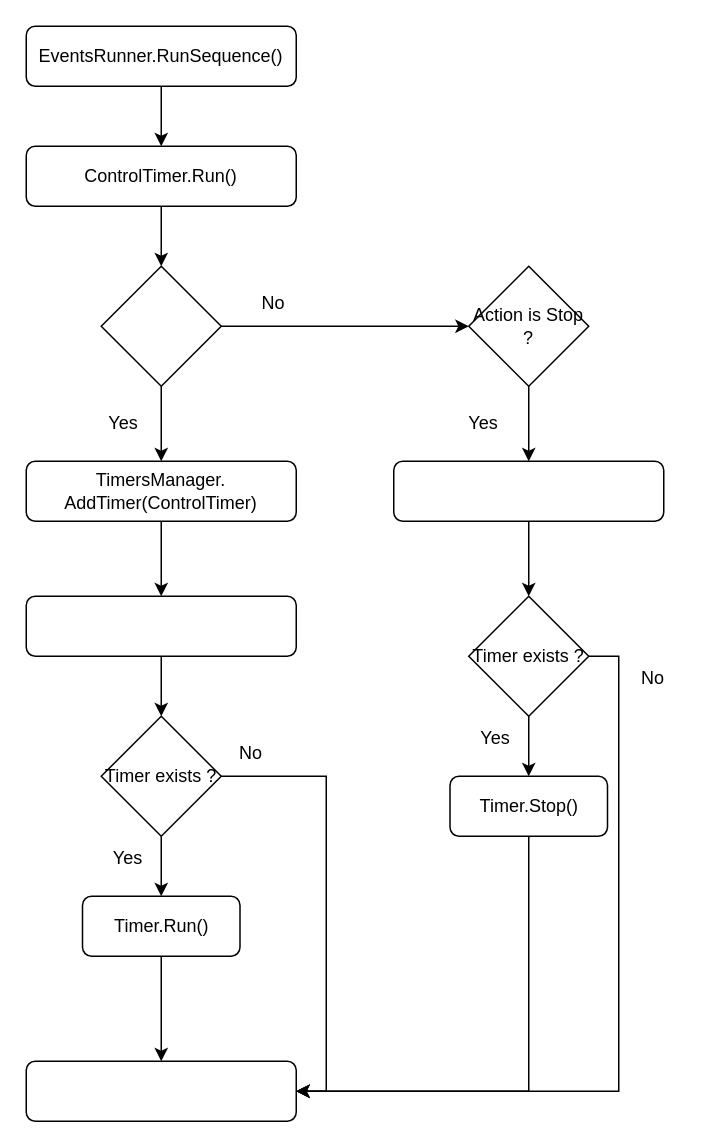
This 723x1148 diagram has some shape labels left out. Here are the shapes that lost their labels. From the top down, the centre of each, then its label:
At point (160, 325): "Action is Start ?".
At point (528, 490): "TimersManager. StopTimer(Key)".
At point (160, 625): "TimersManager. StartTimer(Key)".
At point (160, 1090): "ControlTimer.Finished.Invoke()".
